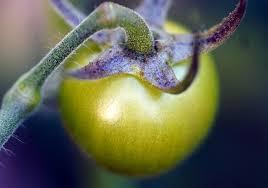Mengkal: (59, 0, 225, 174)
